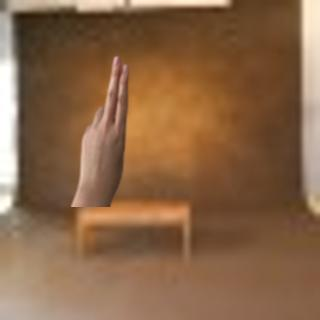DHAVE: (72, 53, 134, 203)
